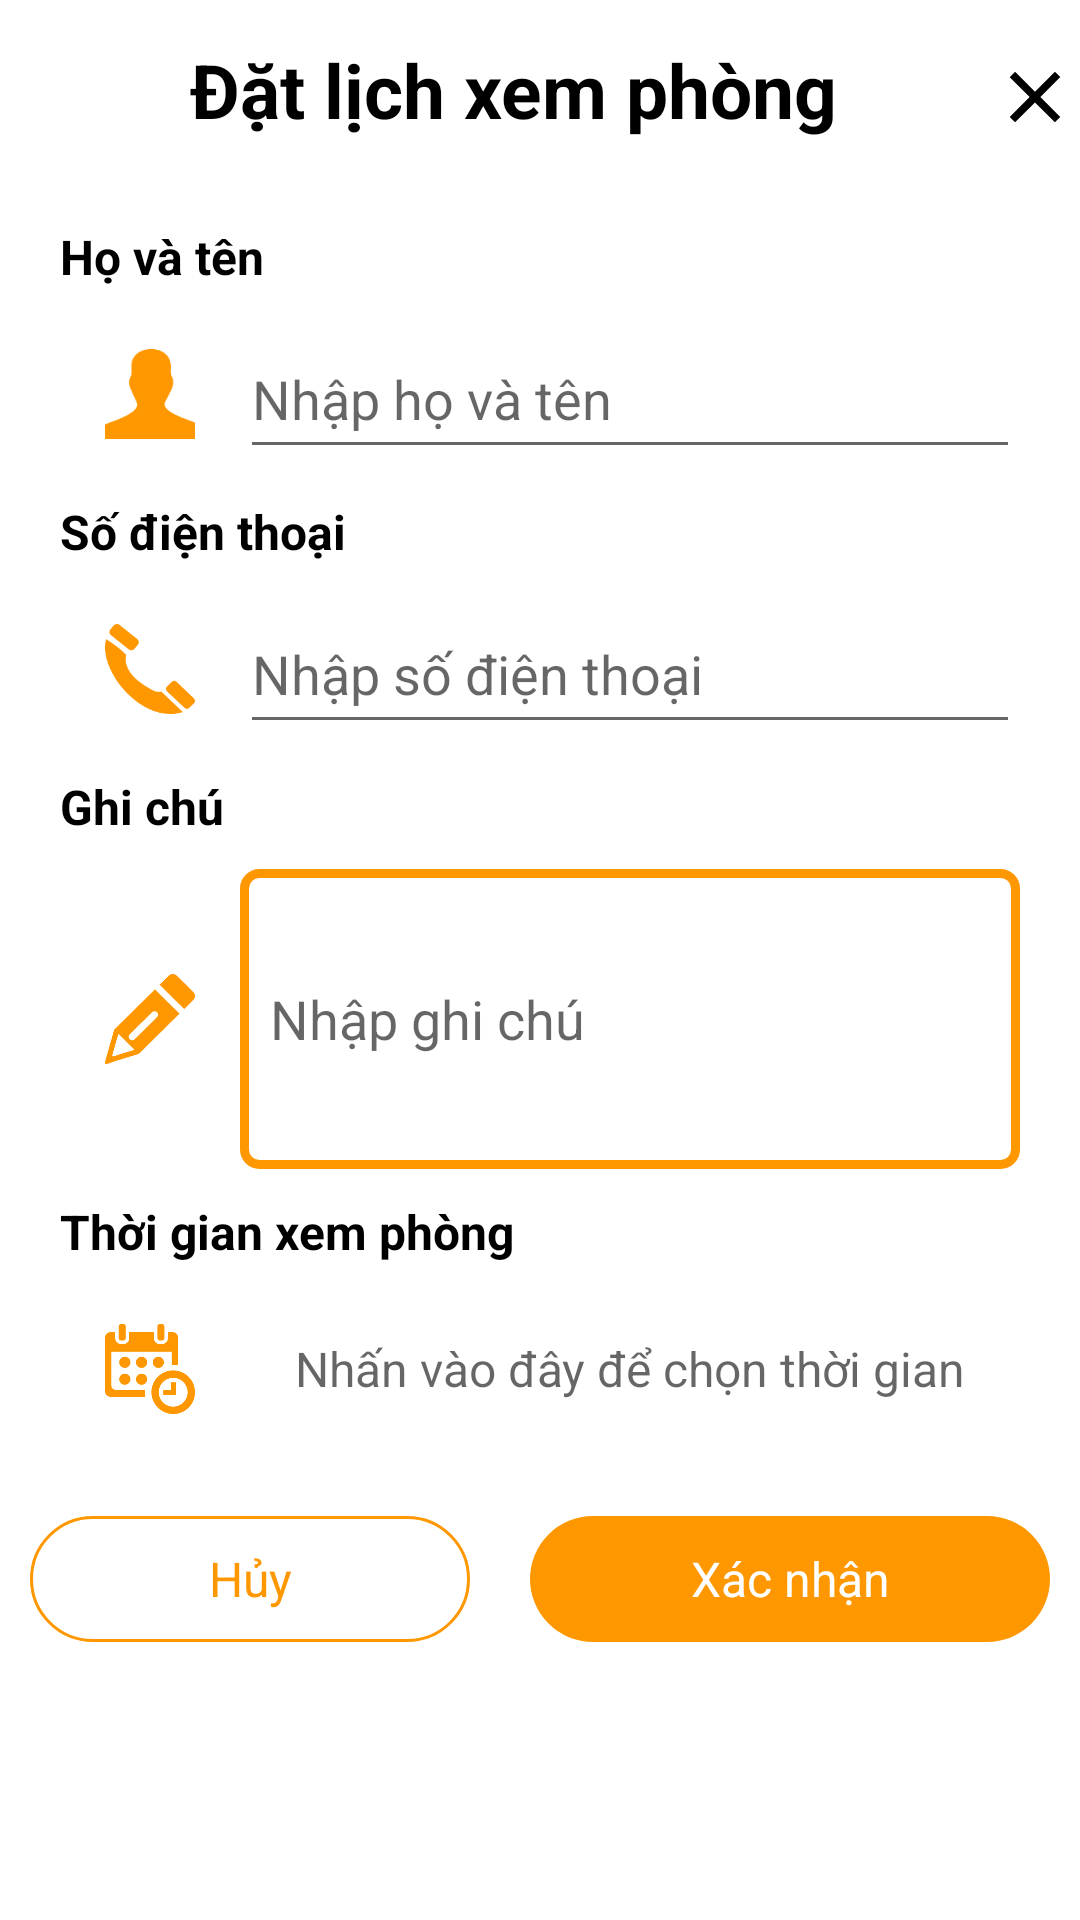

Named icons in this screenshot (1080px x 1920px) and their bounding boxes, region(x1, y1, x2, y2):
calender: region(105, 1324, 195, 1414)
clear: region(1010, 72, 1060, 122)
pencil: region(105, 974, 195, 1064)
phone: region(105, 624, 195, 714)
user: region(105, 349, 195, 439)
